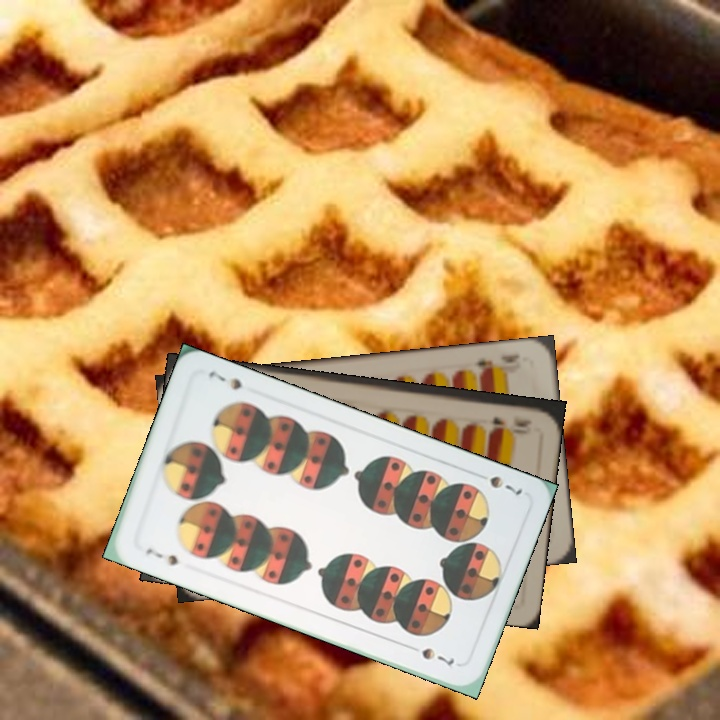E10: (472, 350, 522, 377), (488, 411, 534, 430)
S7: (470, 468, 525, 498), (141, 544, 181, 568)
